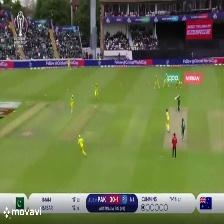batsman: (173, 93, 185, 114)
